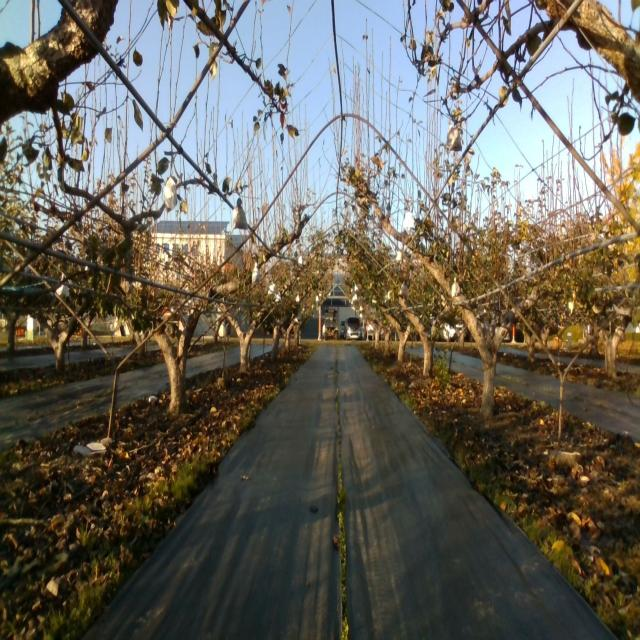pearbags: (232, 198, 248, 230), (164, 177, 176, 214), (447, 125, 462, 151)
